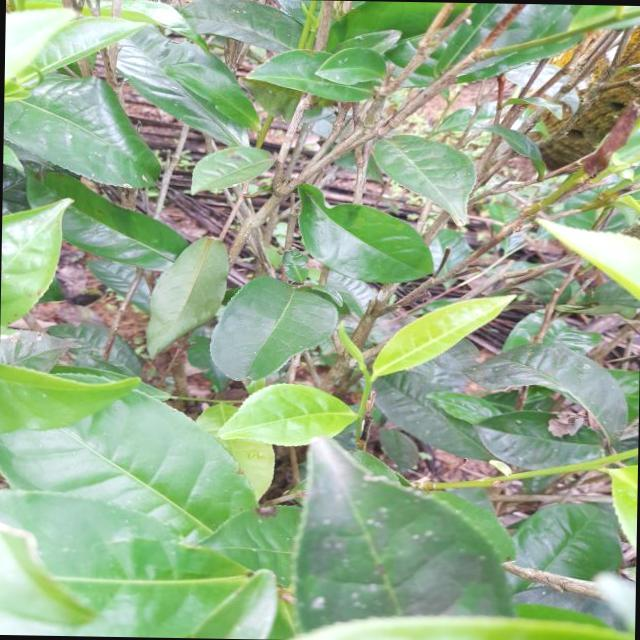Stem: (366, 380, 372, 387)
